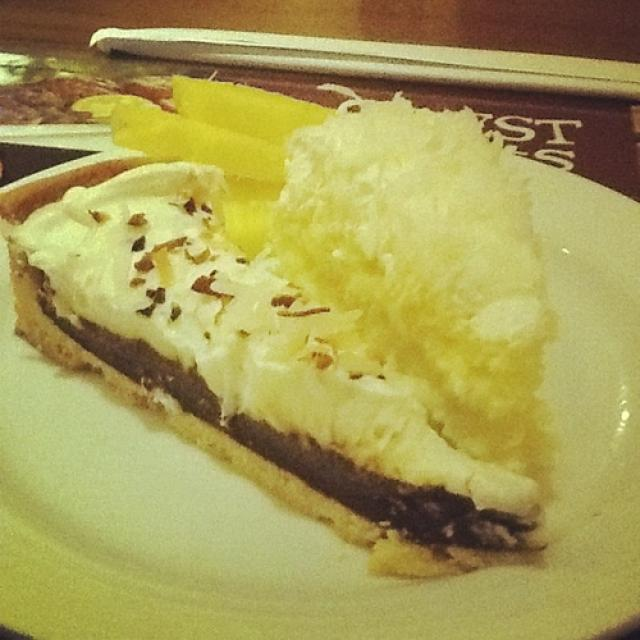蛋糕甜品: (13, 69, 594, 597)
